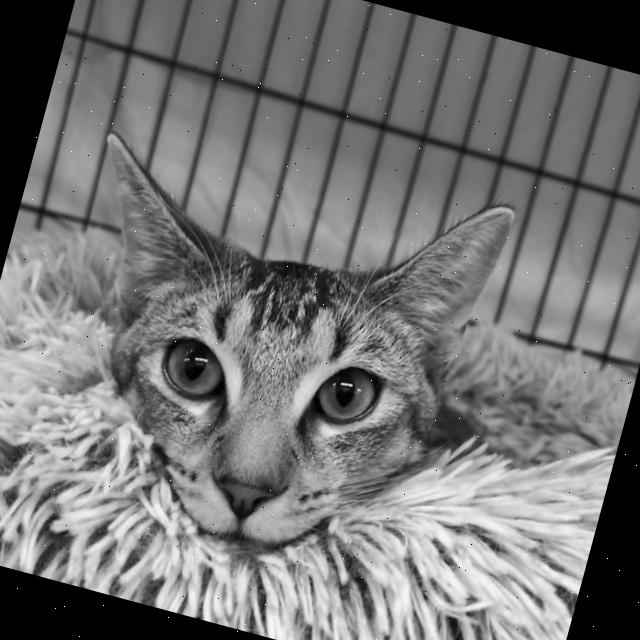american_shorthair_cat: (9, 92, 522, 596)
